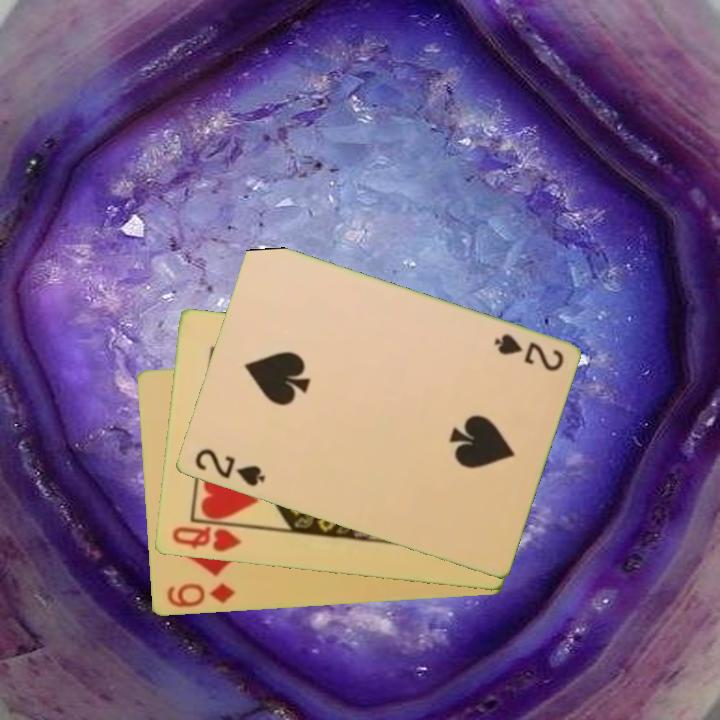2s: (191, 445, 268, 490), (489, 330, 566, 375)
6d: (163, 580, 238, 611)
Qh: (168, 523, 244, 555)
